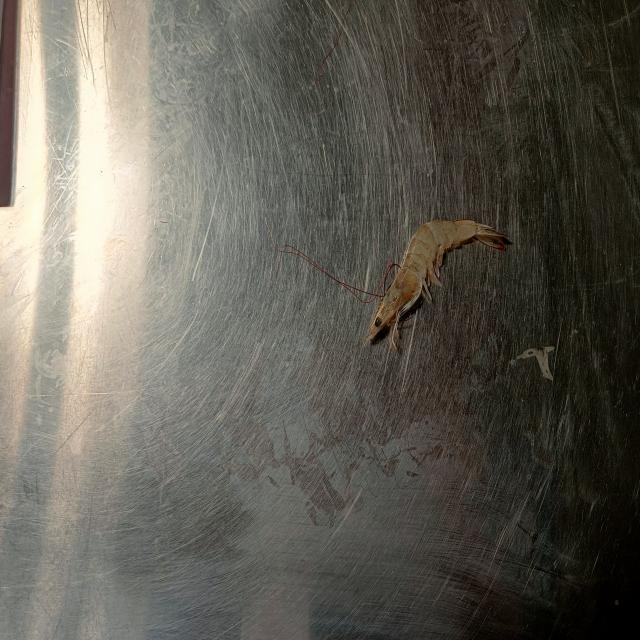shrimp: (366, 219, 505, 349)
